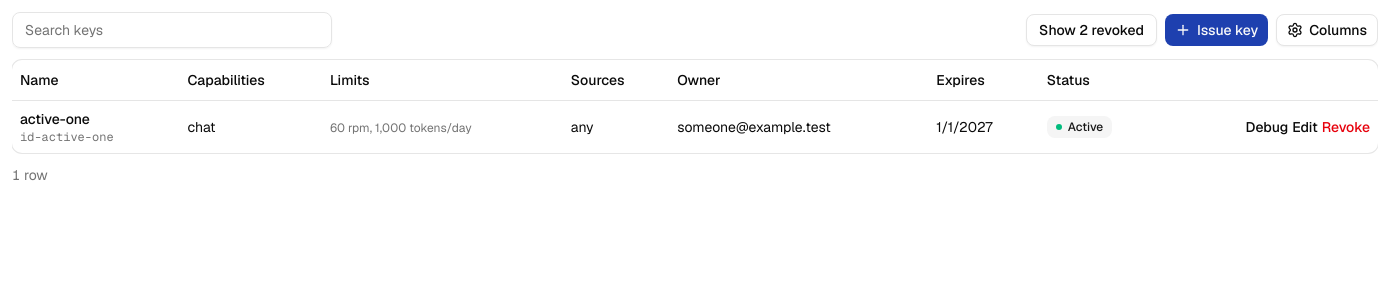
Test: hiding revoked keys › brings them back, and offers to hide them again
Click the button "Show 2 revoked": (1092, 30) [1026, 14, 1157, 46]
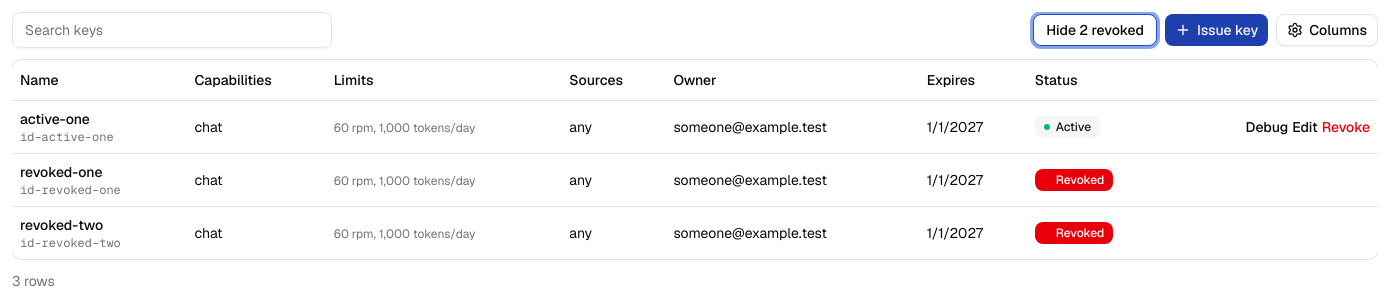
Expected: the text "revoked-one" is shown, [20, 162, 102, 180]
Expected: the text "revoked-two" is shown, [20, 216, 103, 234]
Click the button "Hide 2 revoked": (1095, 30) [1033, 14, 1157, 46]
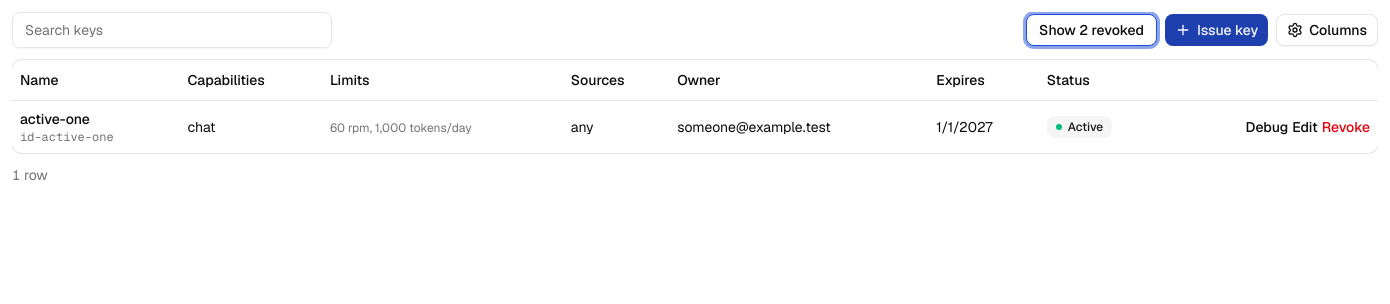
Expected: the text "revoked-one" is gone
